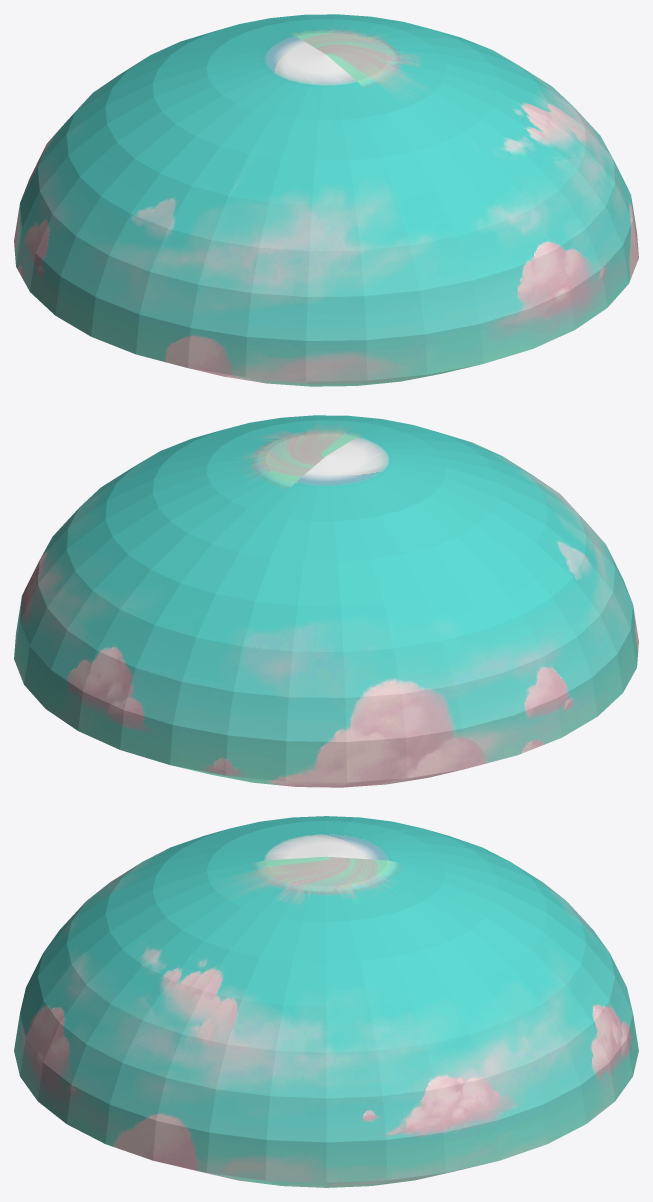
Rendered from map_tgsd.fbx.
The picture shows the model from 3 angles, top to bottom: view 1: azimuth 30°, elevation 25°; view 2: azimuth 150°, elevation 25°; view 3: azimuth 270°, elevation 25°; orthographic projection.
Parts seen in each view (by area): view 1: sky_tgsd; view 2: sky_tgsd; view 3: sky_tgsd.
Part boxes in pixels (x1,y1,x2,y2): sky_tgsd: [14, 14, 638, 386]; sky_tgsd: [14, 415, 638, 787]; sky_tgsd: [14, 816, 638, 1187].
Size of the model in its own units: 3323 by 1562 by 3323.
